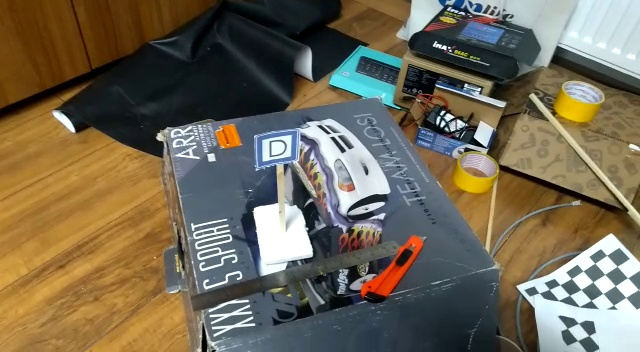durak: (247, 132, 297, 165)
